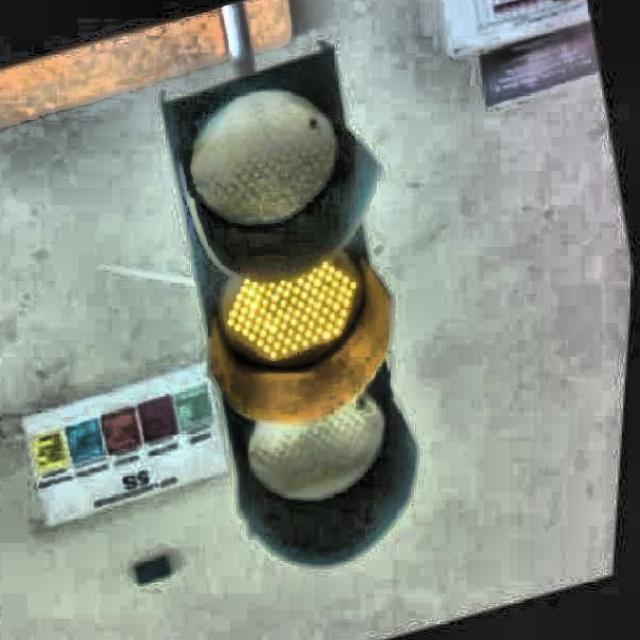yellow: (130, 36, 467, 594)
